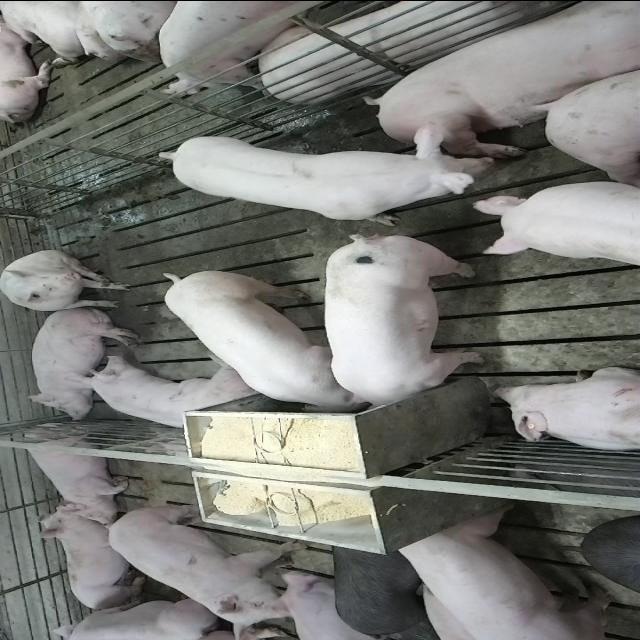Feeding: (160, 264, 368, 412), (322, 228, 484, 410)
Lateral_lying: (367, 4, 640, 164), (256, 0, 598, 102), (24, 306, 140, 421)
Sitting: (2, 250, 134, 312)
Standing: (154, 130, 492, 221), (393, 508, 617, 638), (109, 502, 313, 628), (162, 0, 348, 94), (471, 175, 640, 267), (326, 542, 442, 636)
Sternal_lying: (73, 356, 259, 433), (489, 367, 640, 452), (36, 506, 150, 610), (16, 425, 133, 516)
